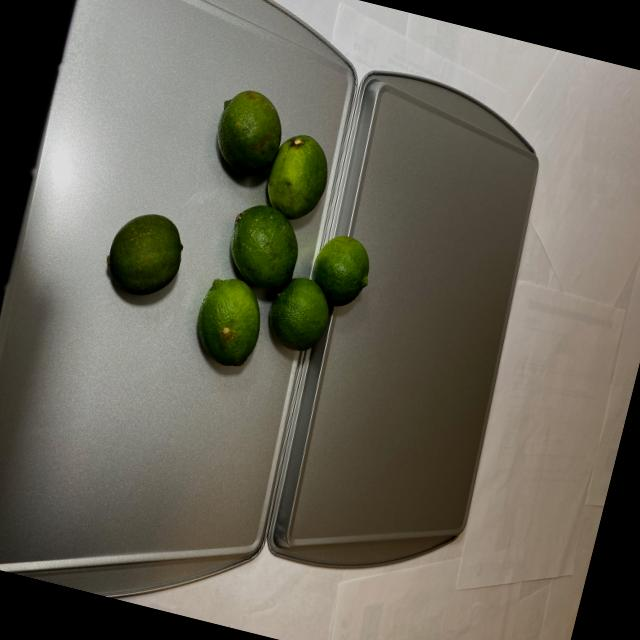lemon: (84, 62, 408, 400)
